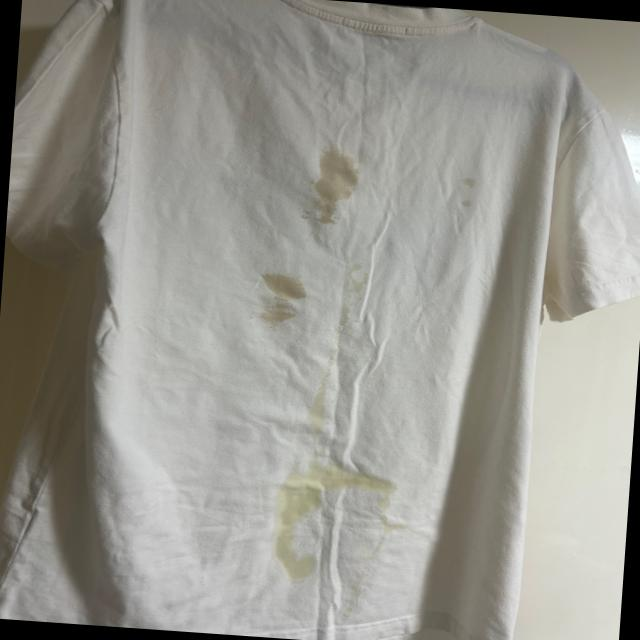stain: (307, 148, 358, 232), (287, 454, 389, 495), (308, 358, 338, 437), (253, 298, 310, 336), (256, 273, 316, 307), (274, 479, 322, 514), (272, 552, 320, 586), (331, 262, 378, 296), (367, 509, 409, 538), (457, 168, 483, 214), (278, 514, 308, 550)
